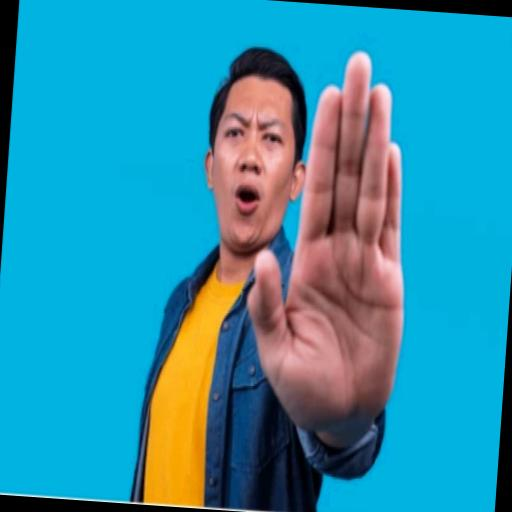Thumbs_Up: (226, 36, 450, 486)
